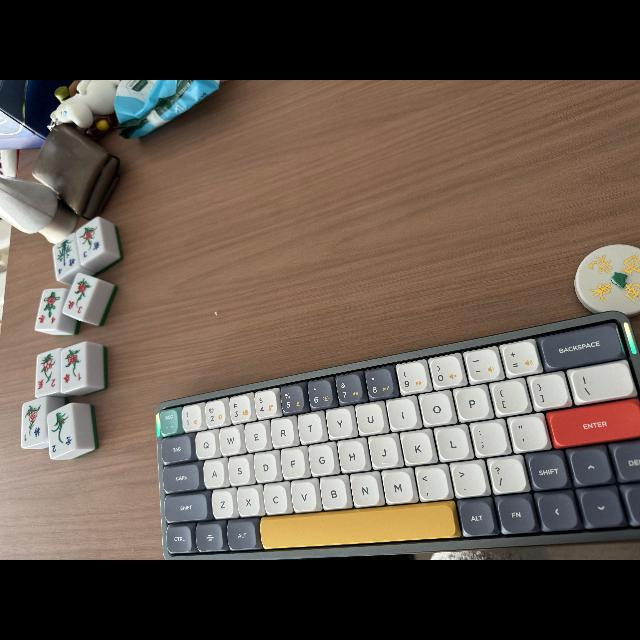f1: (20, 428, 46, 444)
f2: (48, 435, 74, 457)
f3: (78, 240, 102, 262)
f4: (54, 258, 78, 276)
s1: (60, 372, 86, 388)
s2: (34, 378, 60, 394)
s3: (62, 300, 86, 316)
s4: (34, 314, 60, 330)
